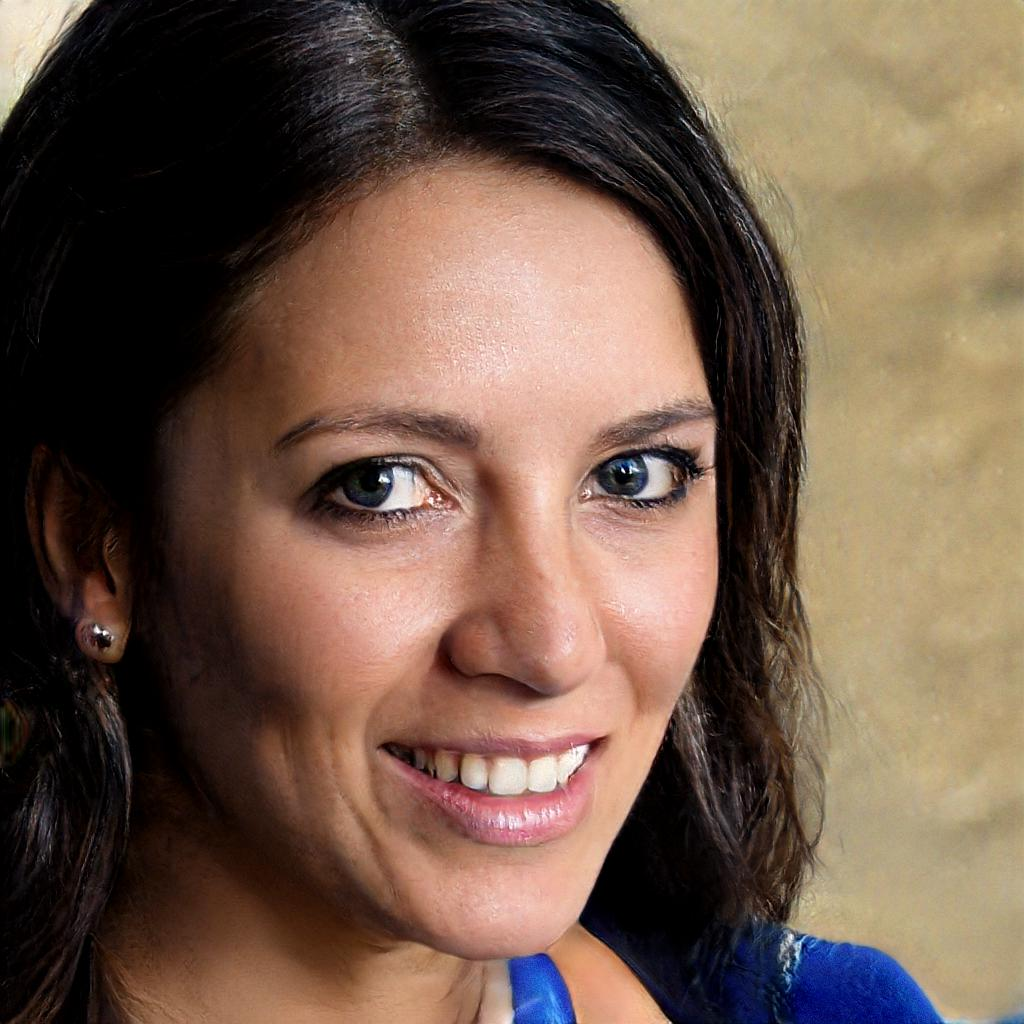face: (136, 161, 718, 958)
